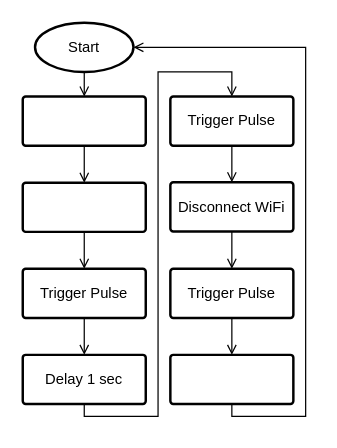
This 337x448 diagram has some shape labels left out. The shapes that lost their labels are listed below. From the top down, each one's centre as x and y in pixels, then its label:
pixel 83 120: Trig Pulse
pixel 83 206: Connect WiFi
pixel 231 379: Delay 3 sec
